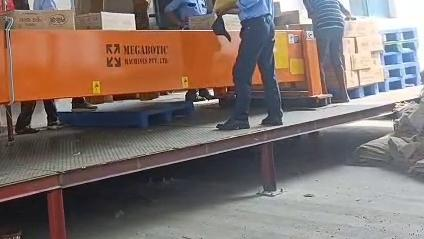box: (6, 10, 74, 29), (75, 12, 135, 30), (356, 66, 384, 85), (345, 20, 378, 36), (354, 34, 383, 52), (275, 10, 304, 26), (349, 53, 372, 70), (222, 14, 240, 30), (345, 71, 359, 88), (281, 23, 312, 30), (343, 38, 355, 54), (343, 53, 354, 70), (273, 1, 281, 17)
